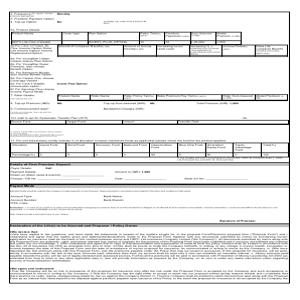table: (10, 144, 289, 158), (58, 43, 288, 56), (11, 33, 241, 44), (58, 92, 289, 101), (11, 121, 291, 126)
text: (9, 230, 289, 262), (9, 124, 233, 143), (9, 265, 289, 280), (11, 162, 108, 184), (10, 99, 89, 120), (9, 12, 75, 33), (10, 194, 135, 205), (11, 206, 279, 211), (185, 171, 250, 184), (121, 169, 175, 184), (10, 224, 141, 229), (101, 16, 153, 28), (102, 101, 160, 111), (11, 44, 55, 55)
